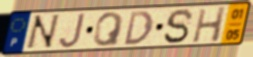D: (123, 10, 155, 47)
H: (190, 6, 228, 44)
J: (57, 12, 87, 50)
N: (23, 13, 63, 52)
Q: (92, 11, 126, 48)
S: (161, 8, 195, 46)
